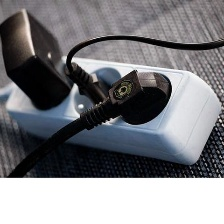three_eye_plug: (3, 46, 223, 170)
